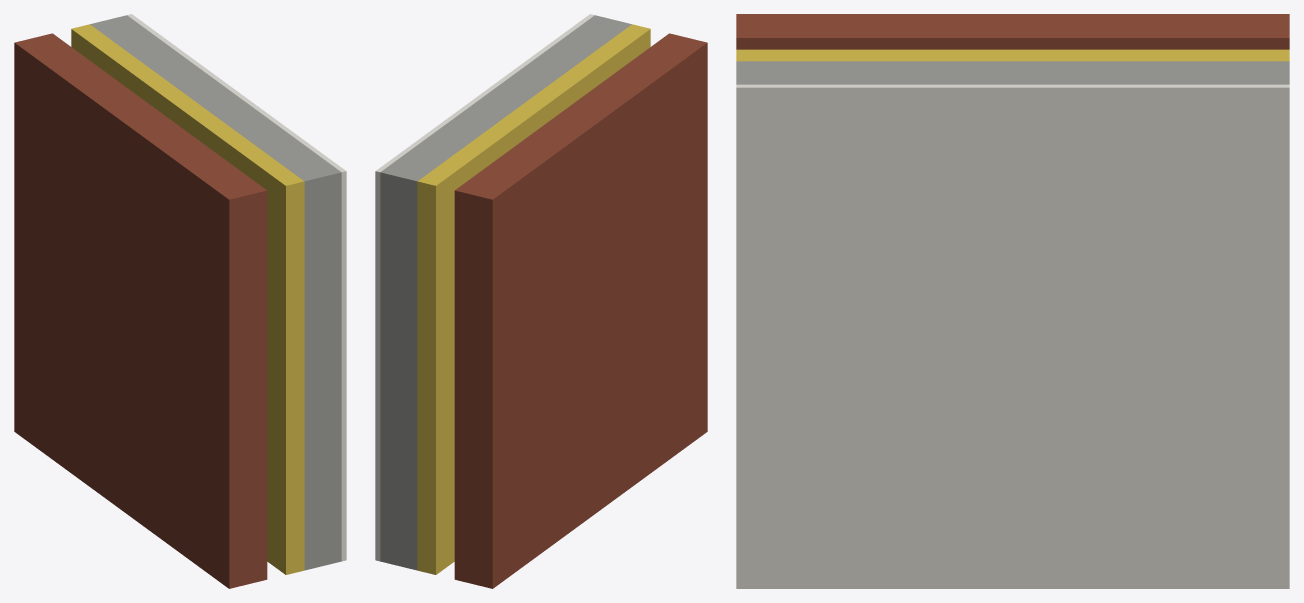
The model's file is structure.wall.cavity_300.glb.
3 renders of one model, left to right at view 1: azimuth 30°, elevation 25°; view 2: azimuth 150°, elevation 25°; view 3: azimuth 270°, elevation 25°, orthographic. The views are drawn at different scales.
Visible parts, largest first — view 1: structure__brick, structure__blockwork, structure__mineral_wool, finishes__plasterboard; view 2: structure__brick, structure__blockwork, structure__mineral_wool, finishes__plasterboard; view 3: finishes__plasterboard, structure__brick, structure__blockwork, structure__mineral_wool.
Part boxes in pixels (x1,y1,x2,y2): structure__brick: (14, 33, 267, 588); structure__blockwork: (90, 15, 341, 570); structure__mineral_wool: (71, 24, 304, 574); finishes__plasterboard: (127, 14, 346, 561); structure__brick: (454, 33, 707, 588); structure__blockwork: (380, 15, 631, 570); structure__mineral_wool: (417, 24, 650, 574); finishes__plasterboard: (375, 14, 594, 561); finishes__plasterboard: (736, 84, 1289, 588); structure__brick: (736, 14, 1289, 49); structure__blockwork: (736, 61, 1289, 84); structure__mineral_wool: (736, 49, 1289, 61).
Size of the model in its own units: 0.3155 by 1 by 1.
